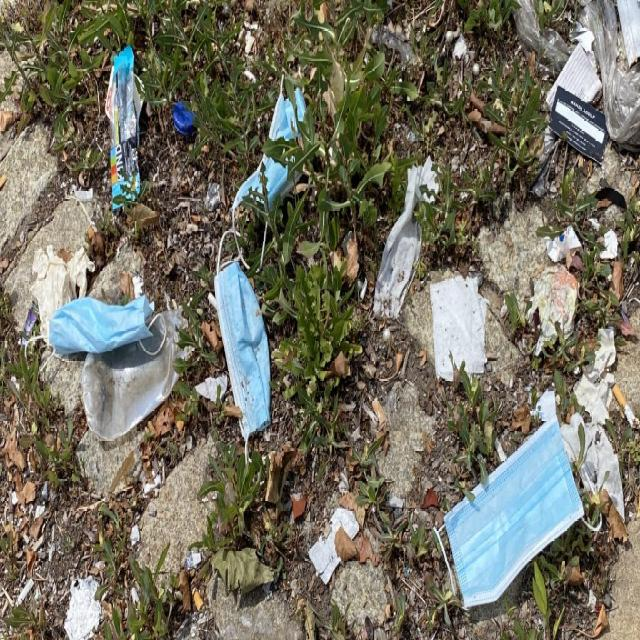non-organic waste: (443, 418, 582, 613), (212, 225, 280, 456), (44, 292, 167, 379)
